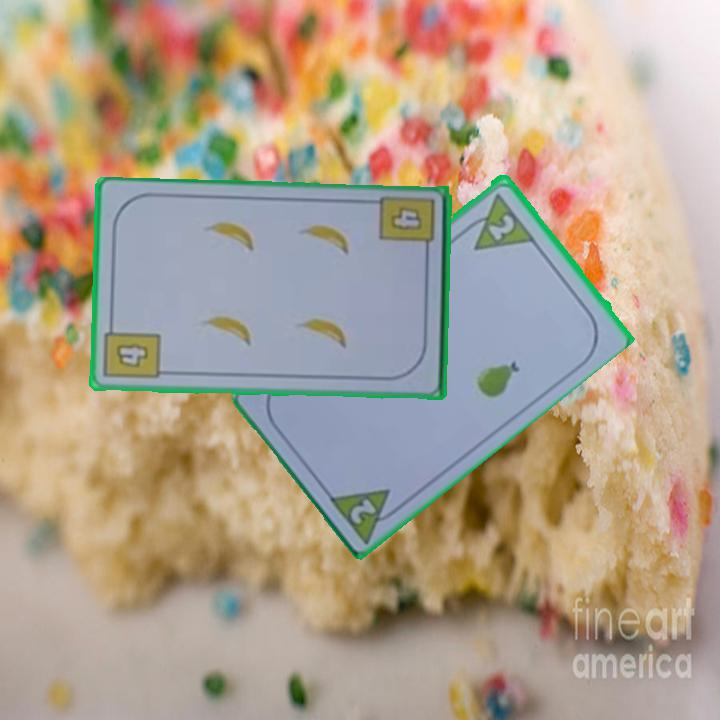2p: (458, 188, 536, 254), (324, 484, 407, 545)
4b: (101, 317, 163, 383), (376, 193, 438, 259)
